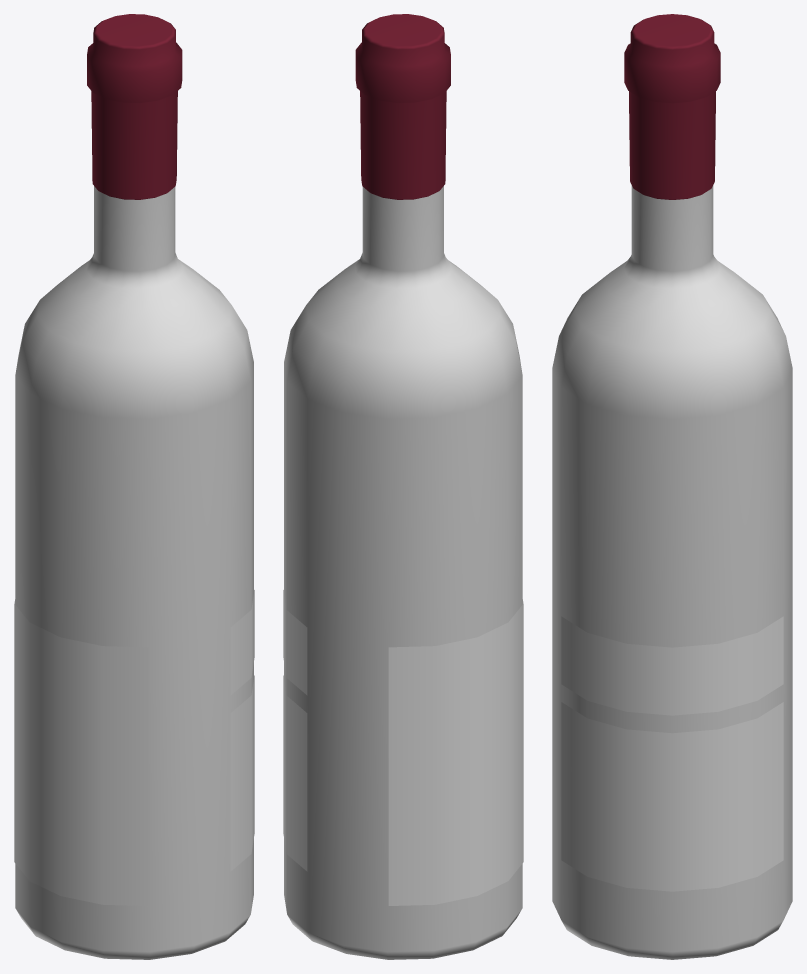
Rendered from Wine.fbx.
3 renders of one model, left to right at view 1: azimuth 30°, elevation 25°; view 2: azimuth 150°, elevation 25°; view 3: azimuth 270°, elevation 25°, orthographic.
Visible parts, largest first — view 1: Cylinder; view 2: Cylinder; view 3: Cylinder.
Boxes of the visible parts, bbox=[...] form: Cylinder: bbox=[14, 14, 254, 959]; Cylinder: bbox=[283, 14, 523, 959]; Cylinder: bbox=[552, 14, 792, 959].
Bounding box in the file's own units: 119 × 480 × 119.
